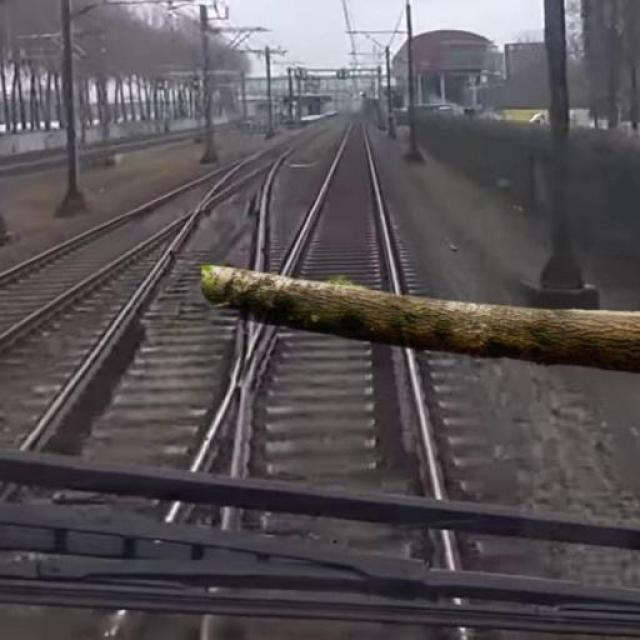Branches: (193, 254, 640, 382)
